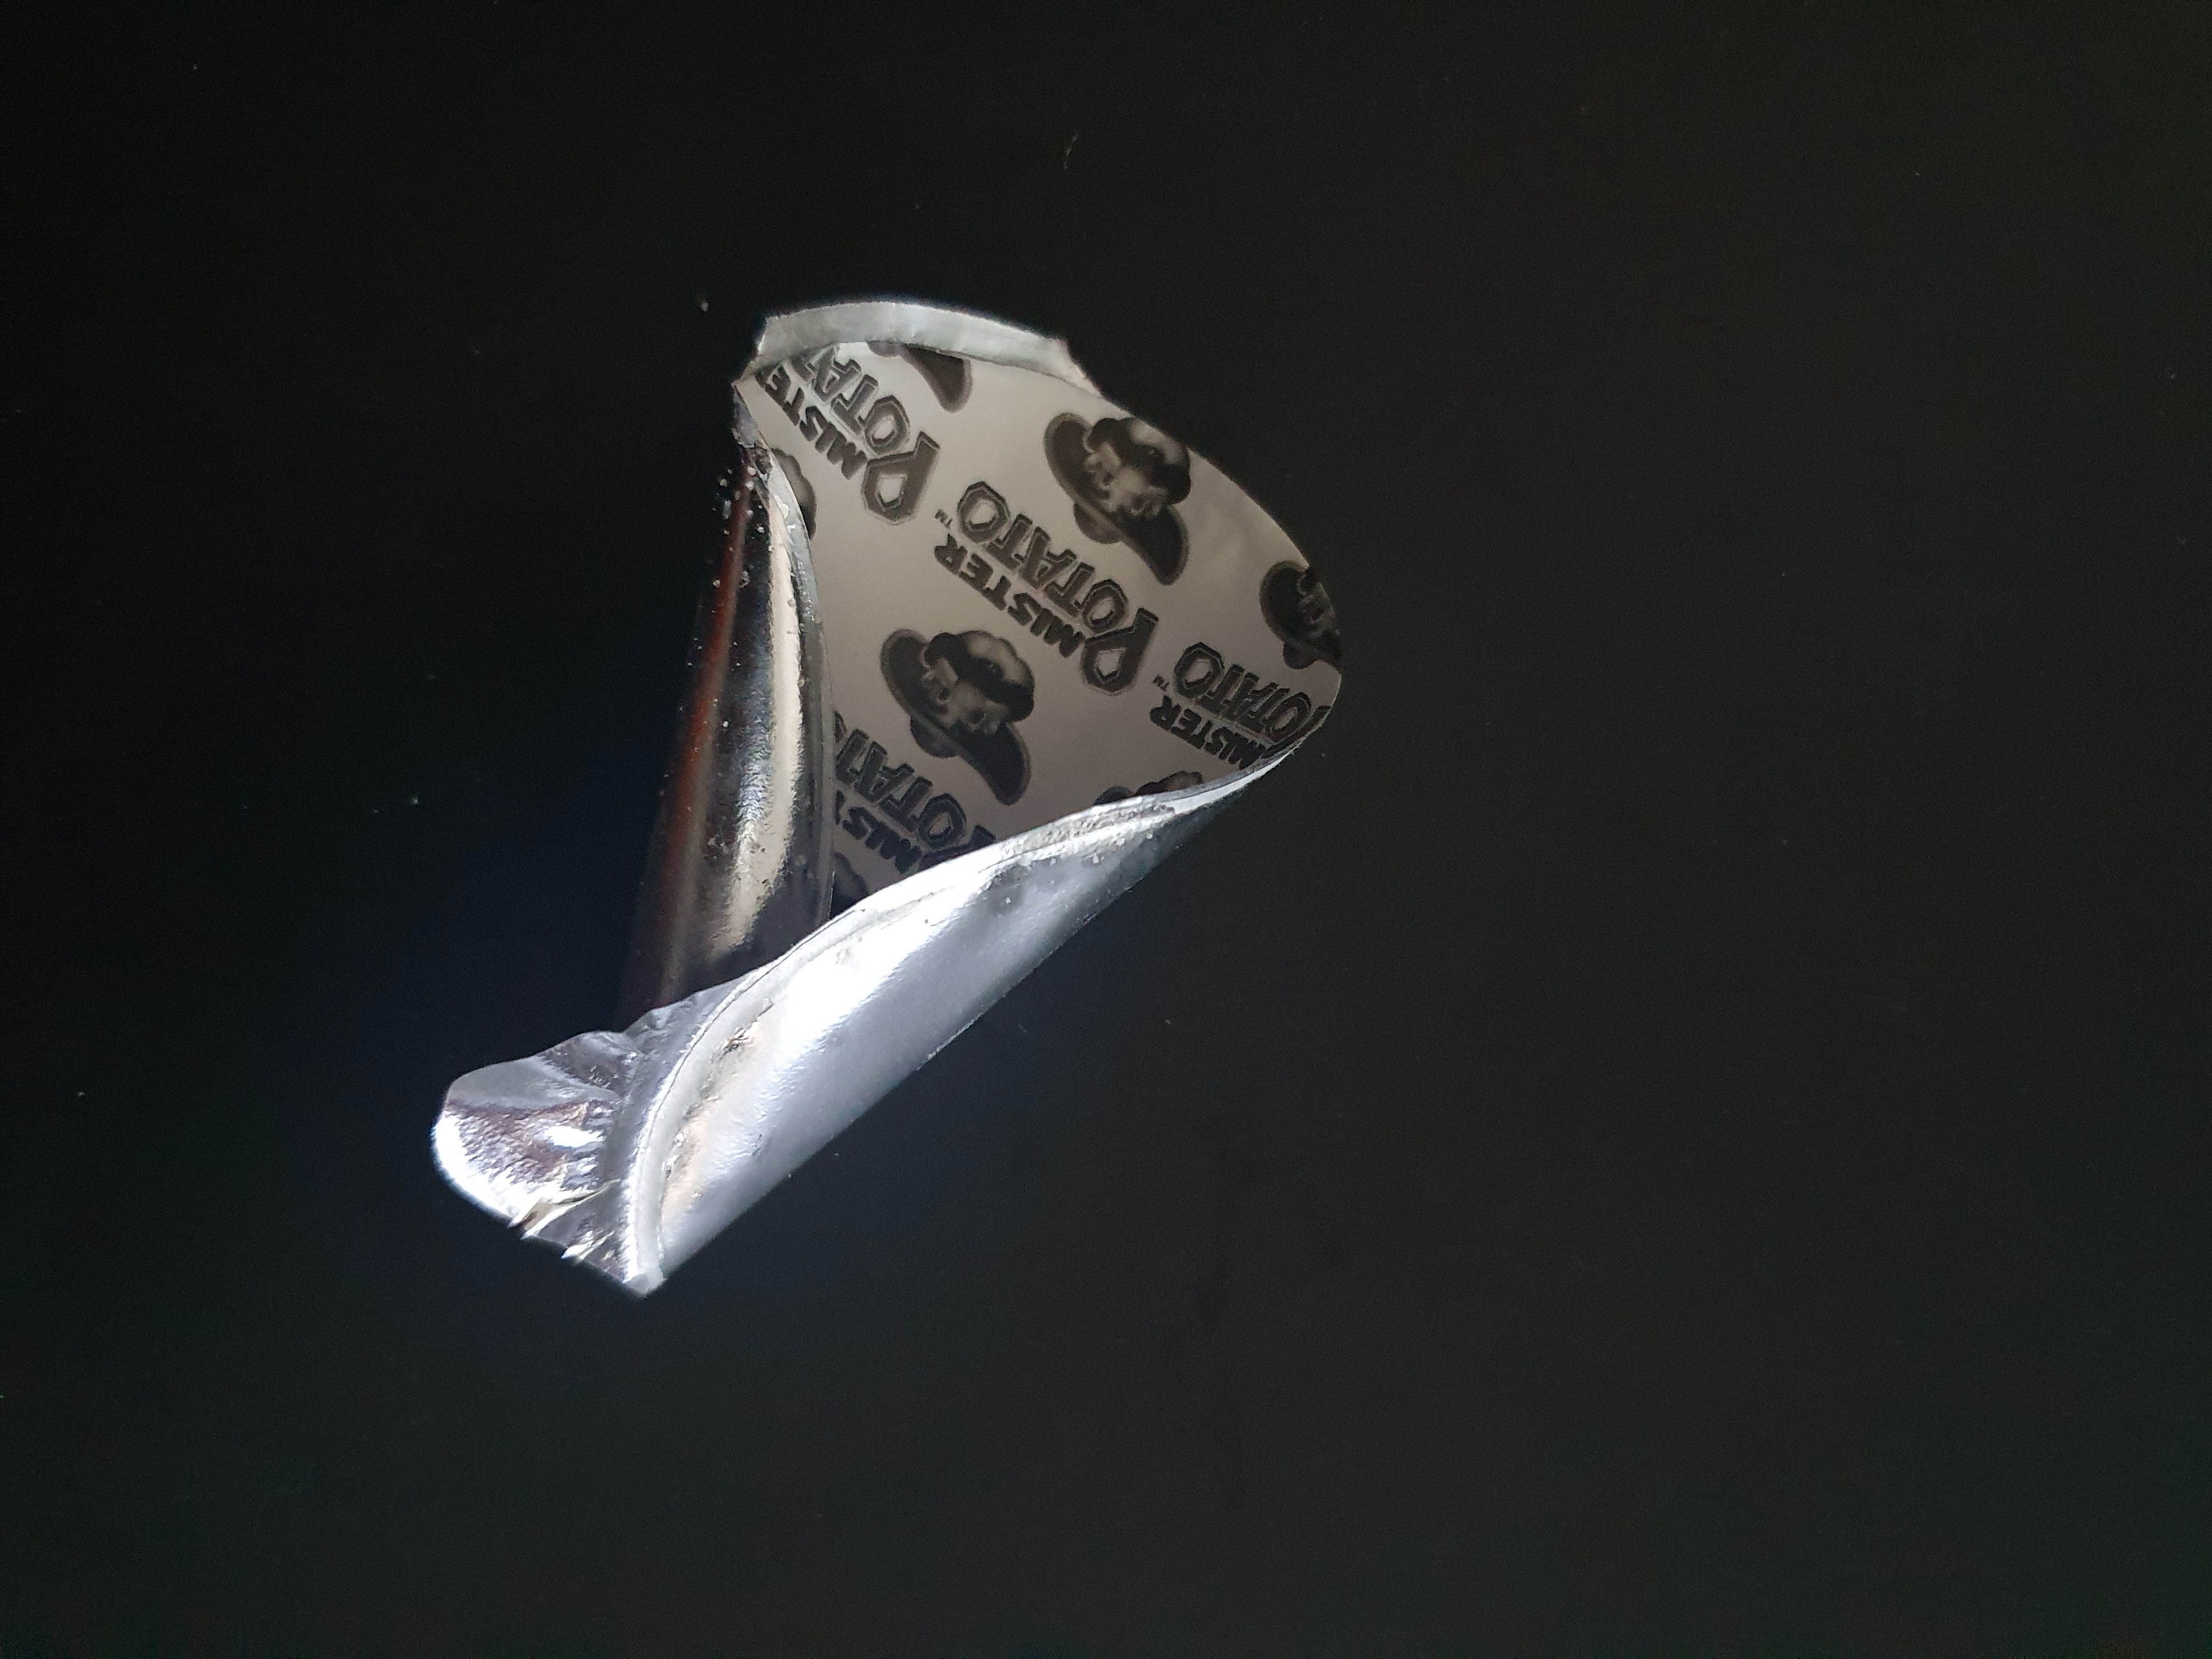metal: (404, 220, 1385, 1345)
